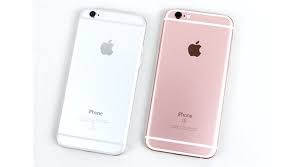iphone: (52, 8, 148, 159), (144, 8, 240, 159)
iphone6: (51, 6, 147, 157), (141, 7, 237, 158)
